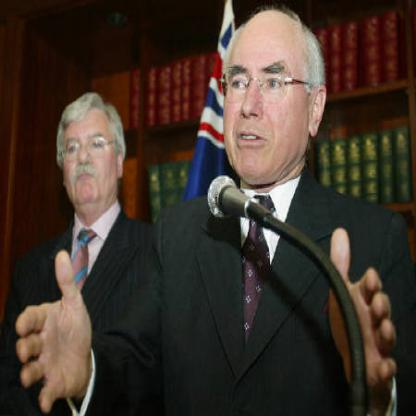face: (218, 11, 315, 189), (60, 97, 119, 213)
